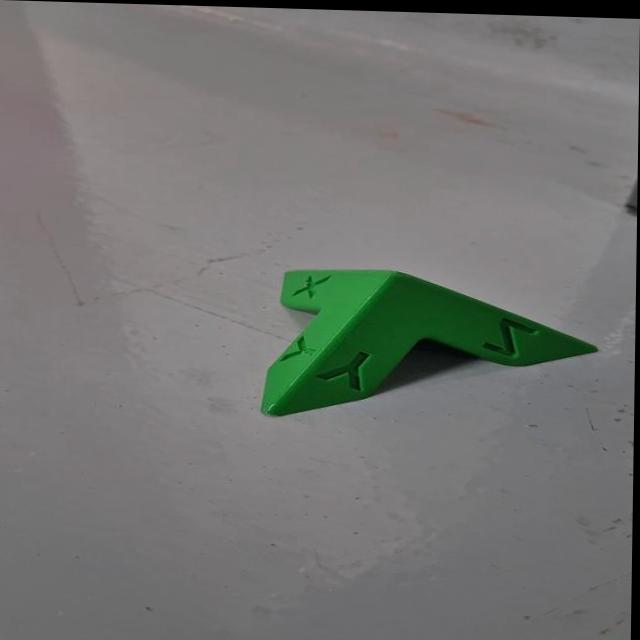eje: (242, 261, 610, 433)
